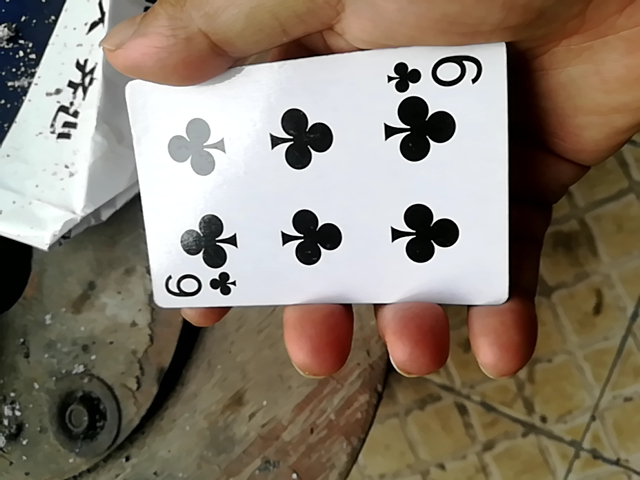mh 6: (125, 40, 512, 307)
